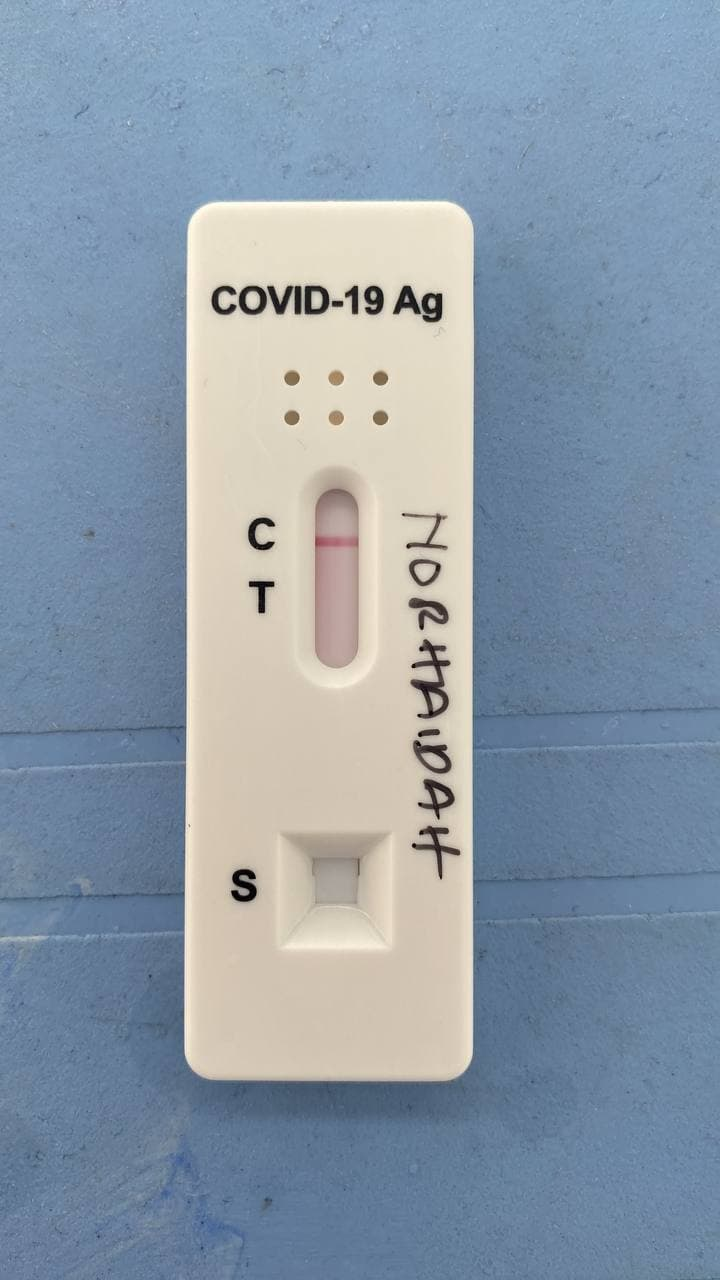rapid_test: (185, 199, 475, 1097)
